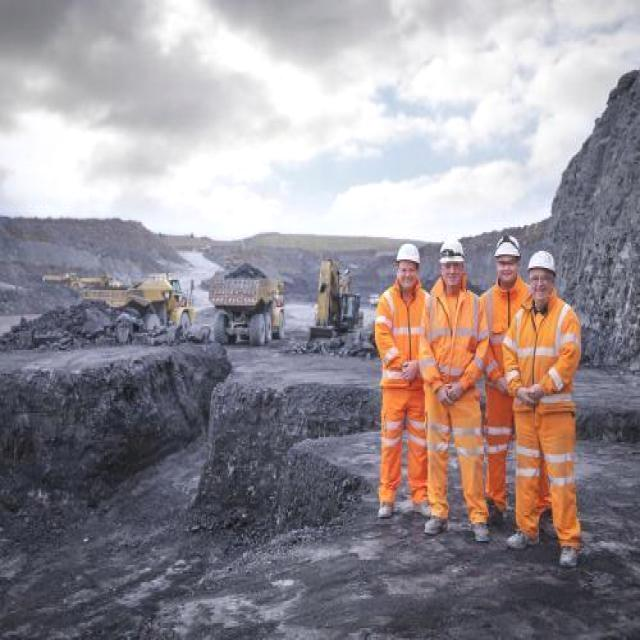face_nomask: (528, 272, 555, 300), (493, 258, 518, 281), (442, 260, 463, 284), (395, 265, 418, 286)
hand_noglove: (396, 356, 422, 386), (443, 378, 468, 402), (514, 386, 538, 409), (433, 382, 452, 406)
head_helmet: (524, 248, 558, 272), (493, 232, 522, 260), (438, 236, 466, 263), (392, 241, 423, 264)
person: (501, 246, 591, 569), (421, 234, 495, 548), (374, 243, 441, 520)
shoes: (501, 529, 542, 553), (468, 516, 496, 548), (554, 540, 582, 570), (421, 512, 452, 536), (372, 496, 399, 520)
